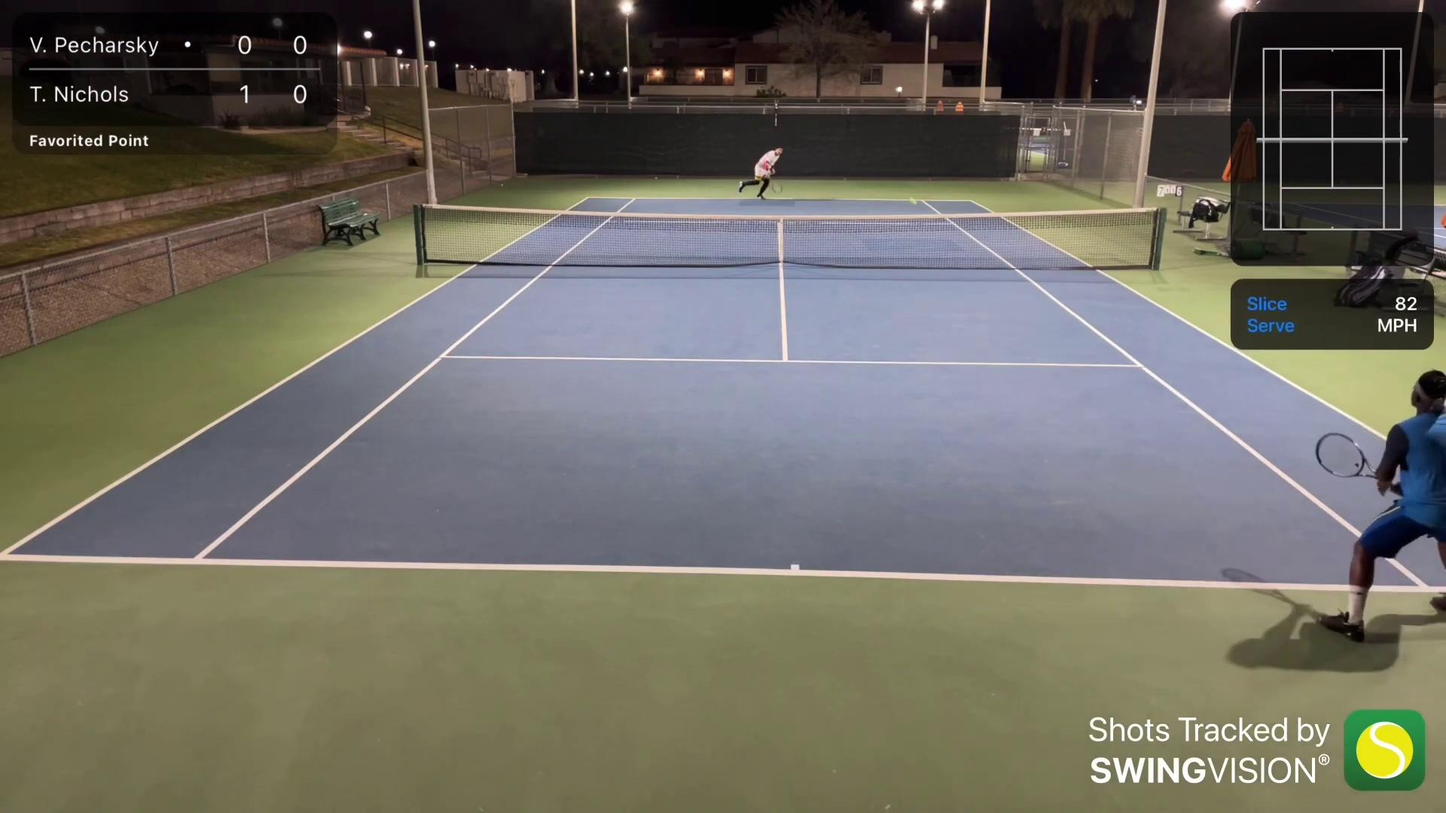ball: (905, 194, 919, 206), (1093, 76, 1100, 83), (497, 183, 506, 188)
